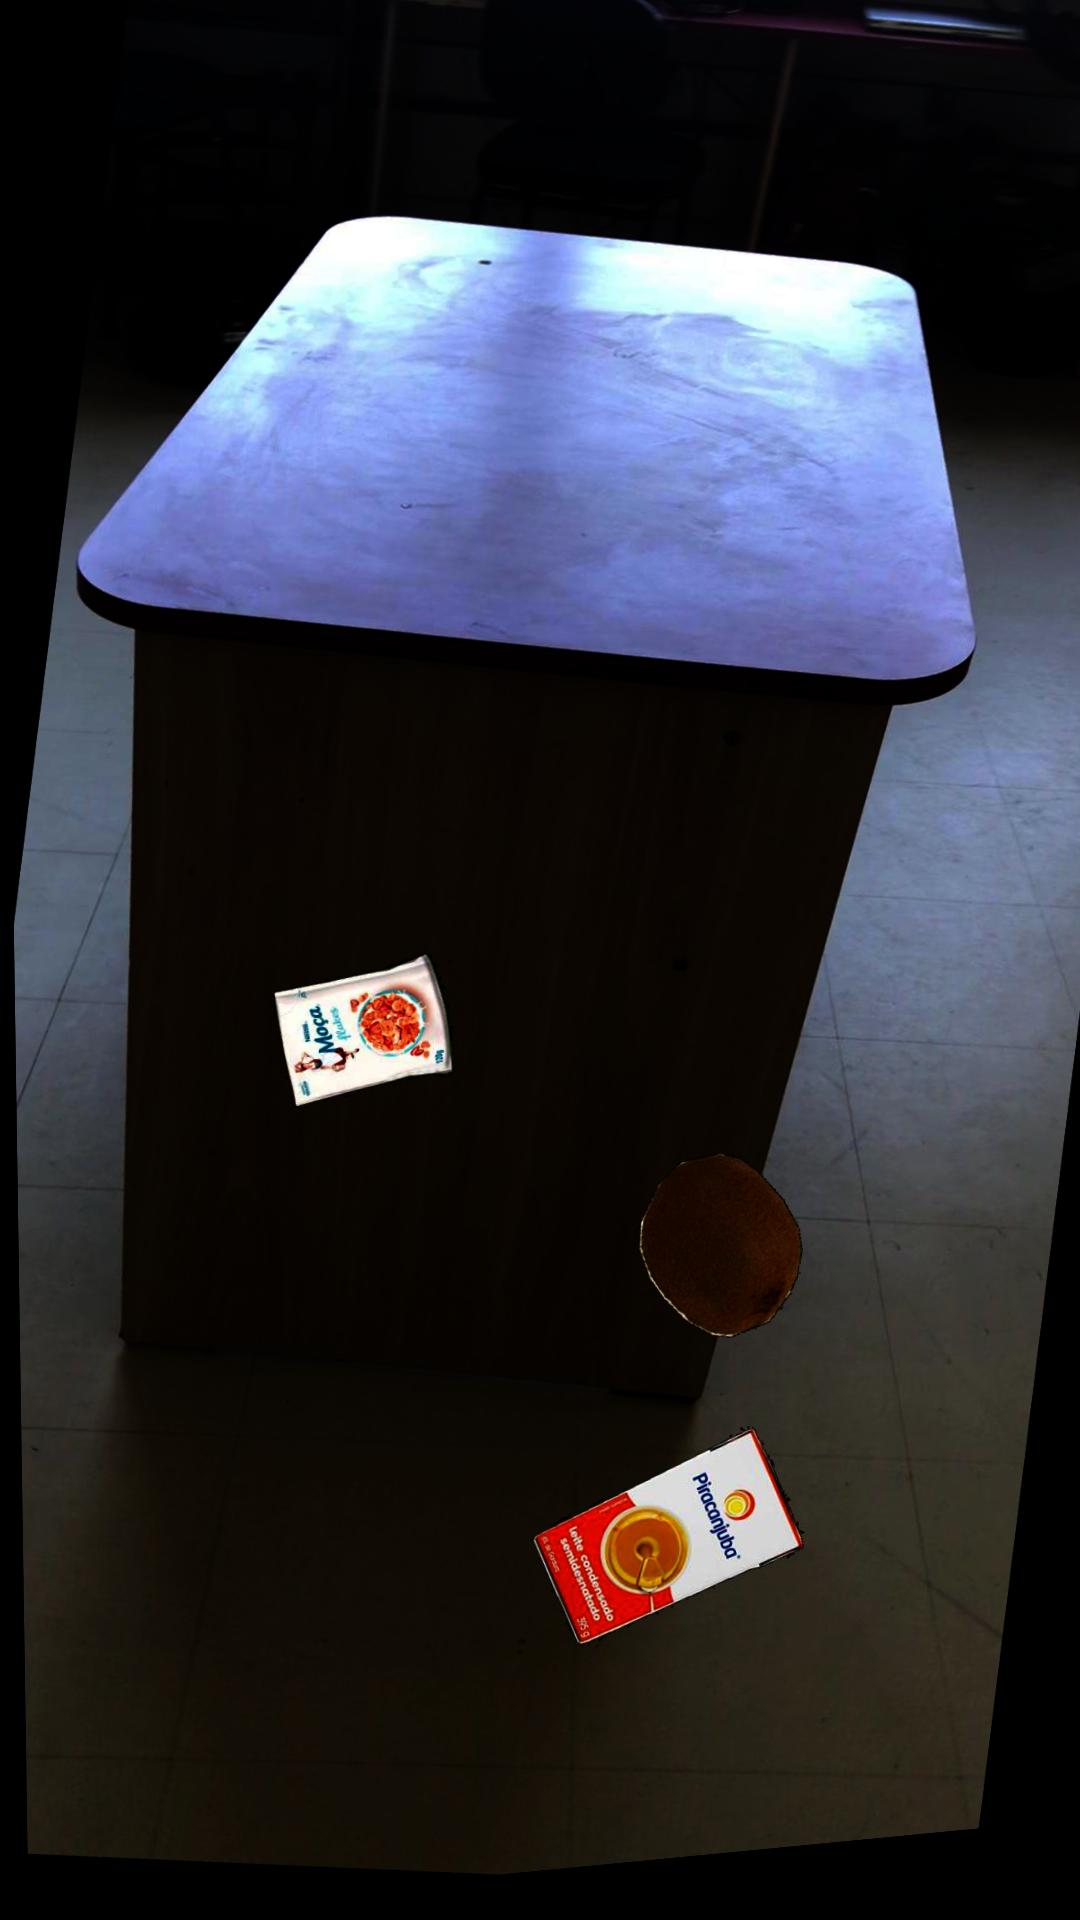corn flakes: (272, 960, 452, 1110)
kiwi: (636, 1166, 800, 1350)
